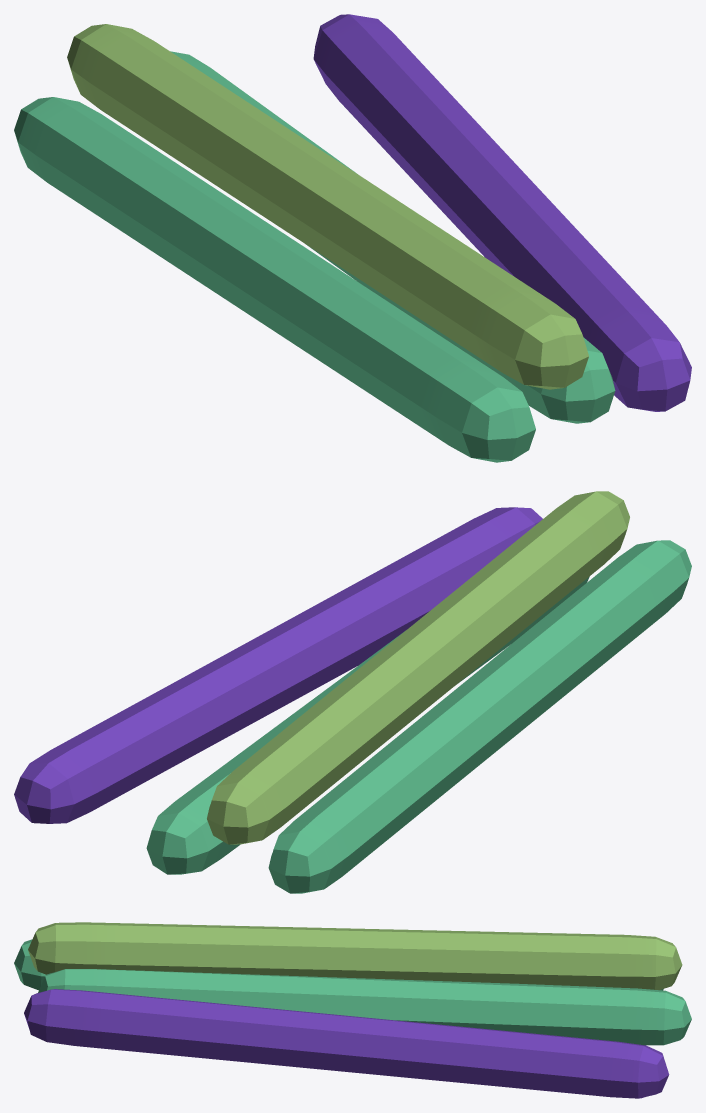
Rendered from Spaghetti - Raw.fbx.
3 renders of one model, top to bottom at view 1: azimuth 30°, elevation 25°; view 2: azimuth 150°, elevation 25°; view 3: azimuth 270°, elevation 25°, orthographic. The views are drawn at different scales.
Visible parts, largest first — view 1: SpaghettiRaw; view 2: SpaghettiRaw; view 3: SpaghettiRaw.
Part boxes in pixels (x1,y1,x2,y2): SpaghettiRaw: (14, 14, 691, 462); SpaghettiRaw: (14, 491, 691, 893); SpaghettiRaw: (14, 922, 691, 1098).
Size of the model in its own units: 20.71 by 8 by 47.45.
